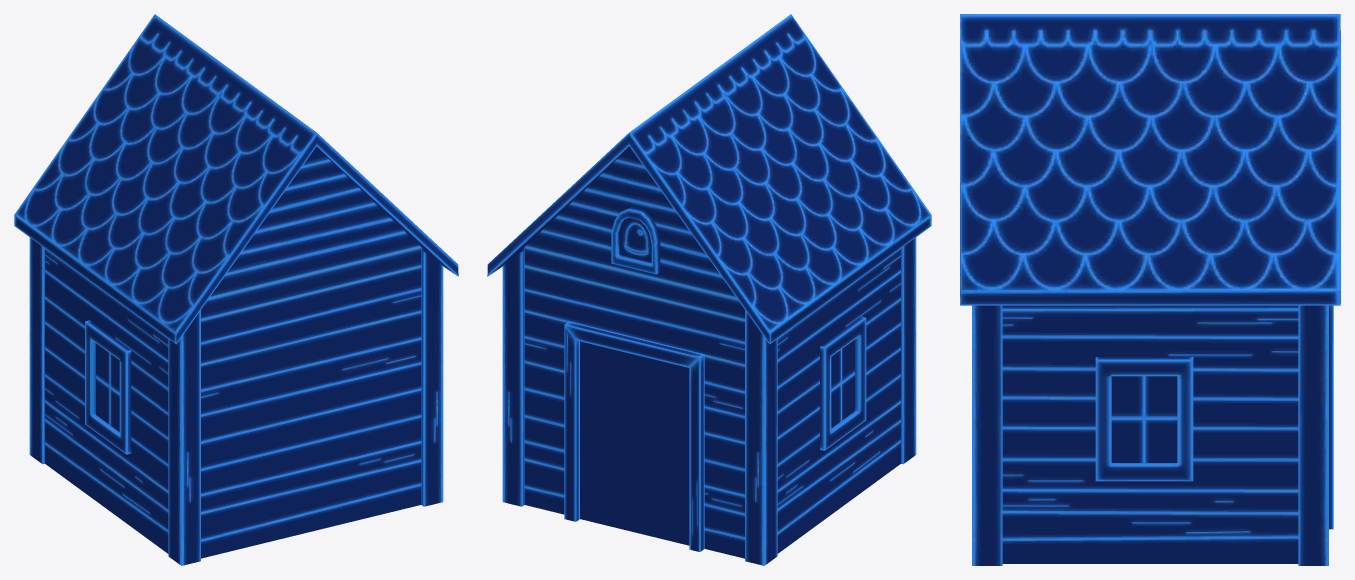
Rendered from SchoolHouse.glb.
3 views of the same model, side by side, from view 1: azimuth 30°, elevation 25°; view 2: azimuth 150°, elevation 25°; view 3: azimuth 270°, elevation 25° (orthographic). The views are drawn at different scales.
Visible parts, largest first — view 1: BlueHouse_Mesh; view 2: BlueHouse_Mesh; view 3: BlueHouse_Mesh.
Boxes of the visible parts, left/top/right/bottom form: BlueHouse_Mesh: left=14, top=14, right=458, bottom=565; BlueHouse_Mesh: left=487, top=14, right=931, bottom=565; BlueHouse_Mesh: left=960, top=14, right=1340, bottom=565.
Bounding box in the file's own units: 0.1452 × 0.1993 × 0.1444.
1 material, 1 textured.
